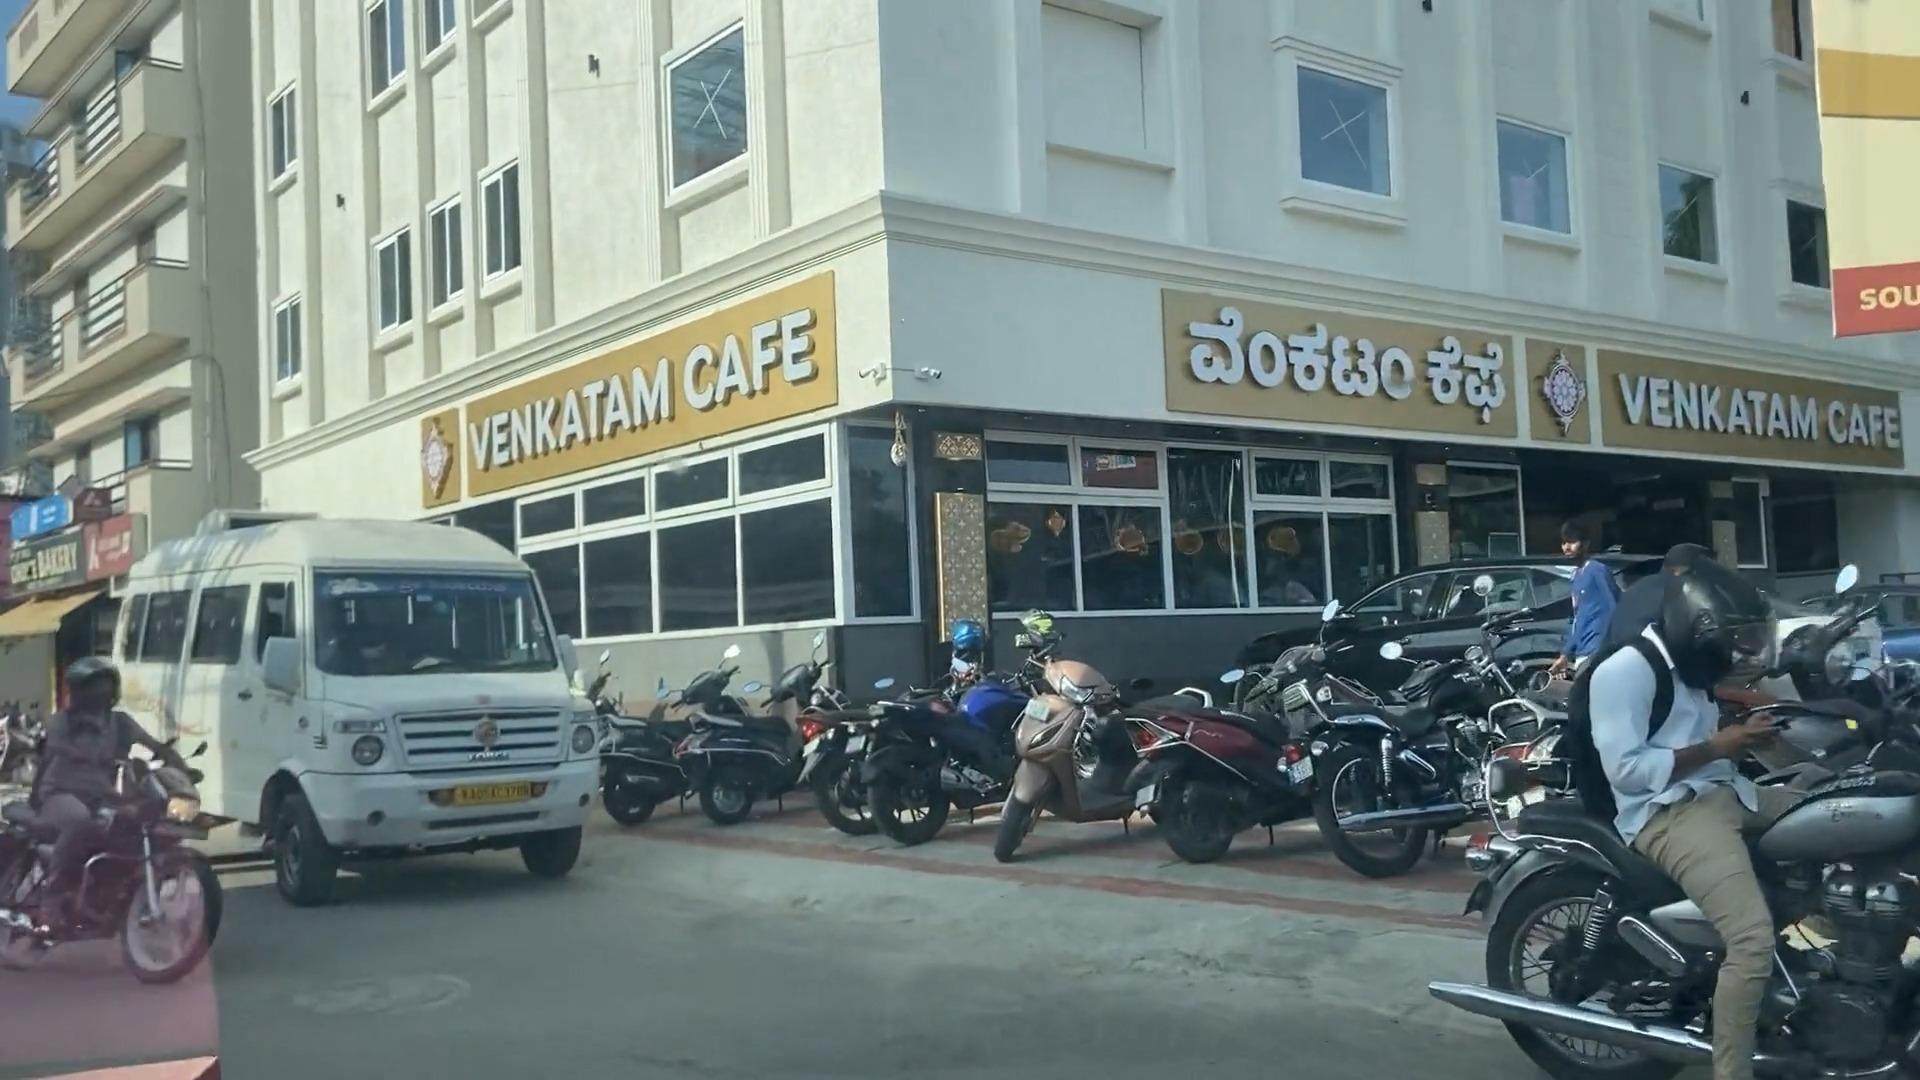HMV: (135, 504, 575, 873)
RoadDamages: (241, 948, 480, 1022)
